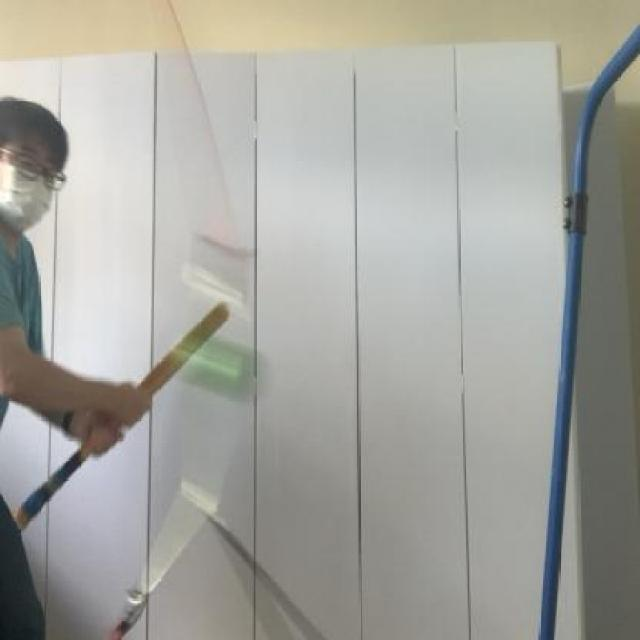baseball: (171, 318, 275, 416)
